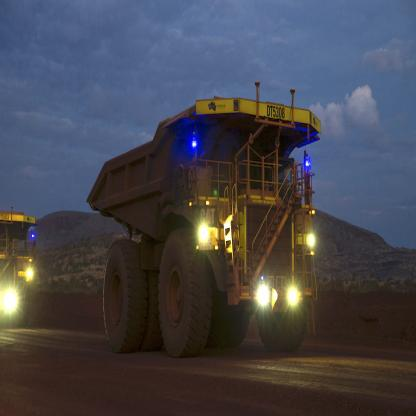dump_truck: (91, 83, 319, 358), (3, 205, 40, 336)
